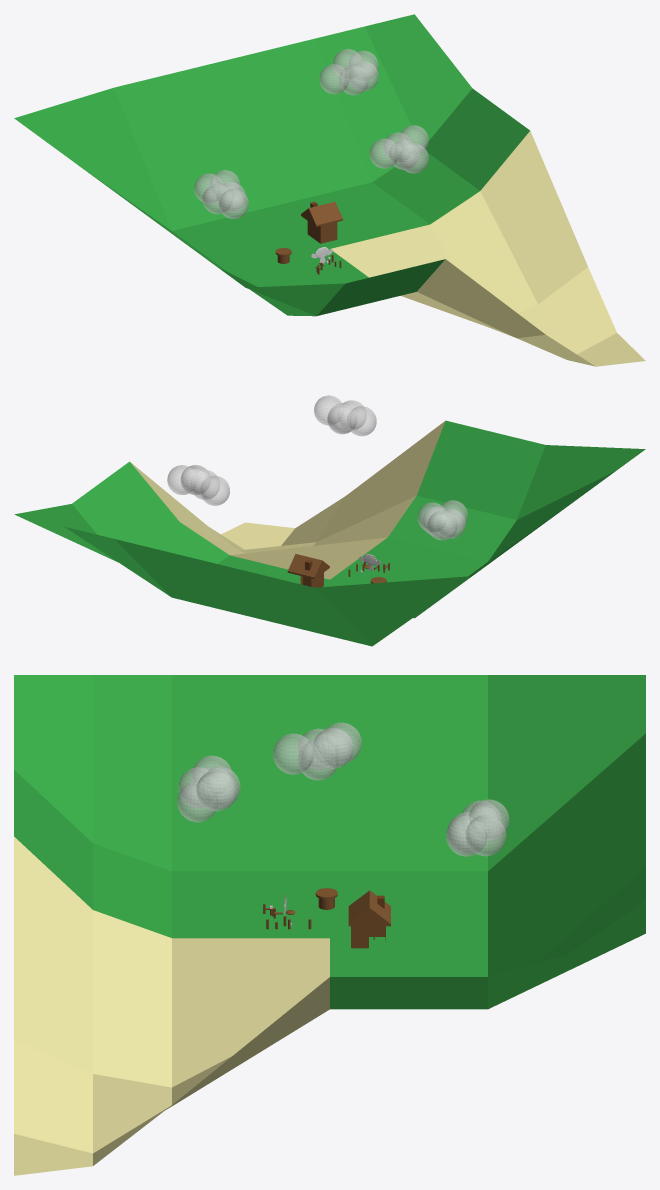
Rendered from fenceThingButNowItIsForUnity.fbx.
3 renders of one model, top to bottom at view 1: azimuth 30°, elevation 25°; view 2: azimuth 150°, elevation 25°; view 3: azimuth 270°, elevation 25°, orthographic. The views are drawn at different scales.
Visible parts, largest first — view 1: Plane, Cube.002, Sphere.014, Sphere.004, Sphere.013, Sphere.018, Sphere.009, Sphere.010, Sphere.005, Sphere.017, Sphere.006, Sphere.012 (+2 smaller); view 2: Plane, Cube.002, Sphere.006, Sphere.014, Sphere.013, Sphere.015, Sphere.012, Sphere.016, Sphere.011, Sphere.007, Sphere.005, Sphere.009 (+2 smaller); view 3: Plane, Cube.002, Sphere.016, Sphere.011, Sphere.007, Sphere.008, Sphere.004, Sphere.010, Sphere.017, Sphere.012, Sphere.006, Sphere.015 (+2 smaller).
Part boxes in pixels (box(x1,y1,x2,y2)): Plane: box(14, 14, 645, 366); Cube.002: box(301, 202, 342, 243); Sphere.014: box(369, 138, 399, 168); Sphere.004: box(219, 189, 248, 218); Sphere.013: box(319, 64, 348, 94); Sphere.018: box(389, 139, 418, 169); Sphere.009: box(339, 65, 368, 95); Sphere.010: box(349, 61, 378, 91); Sphere.005: box(202, 184, 232, 214); Sphere.017: box(399, 143, 428, 173); Sphere.006: box(194, 173, 222, 203); Sphere.012: box(333, 49, 362, 78); Plane: box(14, 420, 645, 646); Cube.002: box(287, 554, 329, 587); Sphere.006: box(427, 510, 457, 540); Sphere.014: box(347, 406, 376, 436); Sphere.013: box(200, 475, 229, 505); Sphere.015: box(327, 404, 356, 434); Sphere.012: box(181, 465, 210, 494); Sphere.016: box(314, 395, 342, 425); Sphere.011: box(167, 465, 195, 494); Sphere.007: box(417, 502, 446, 532); Sphere.005: box(439, 508, 465, 538); Sphere.009: box(193, 470, 219, 499); Plane: box(14, 675, 645, 1175); Cube.002: box(348, 890, 390, 948); Sphere.016: box(196, 770, 237, 811); Sphere.011: box(465, 815, 506, 856); Sphere.007: box(313, 728, 353, 768); Sphere.008: box(298, 739, 338, 780); Sphere.004: box(273, 733, 313, 774); Sphere.010: box(446, 815, 486, 856); Sphere.017: box(177, 781, 217, 822); Sphere.012: box(468, 799, 509, 840); Sphere.006: box(325, 722, 361, 763); Sphere.015: box(204, 766, 240, 807).
Size of the model in its own units: 50470 by 27269 by 50470.
